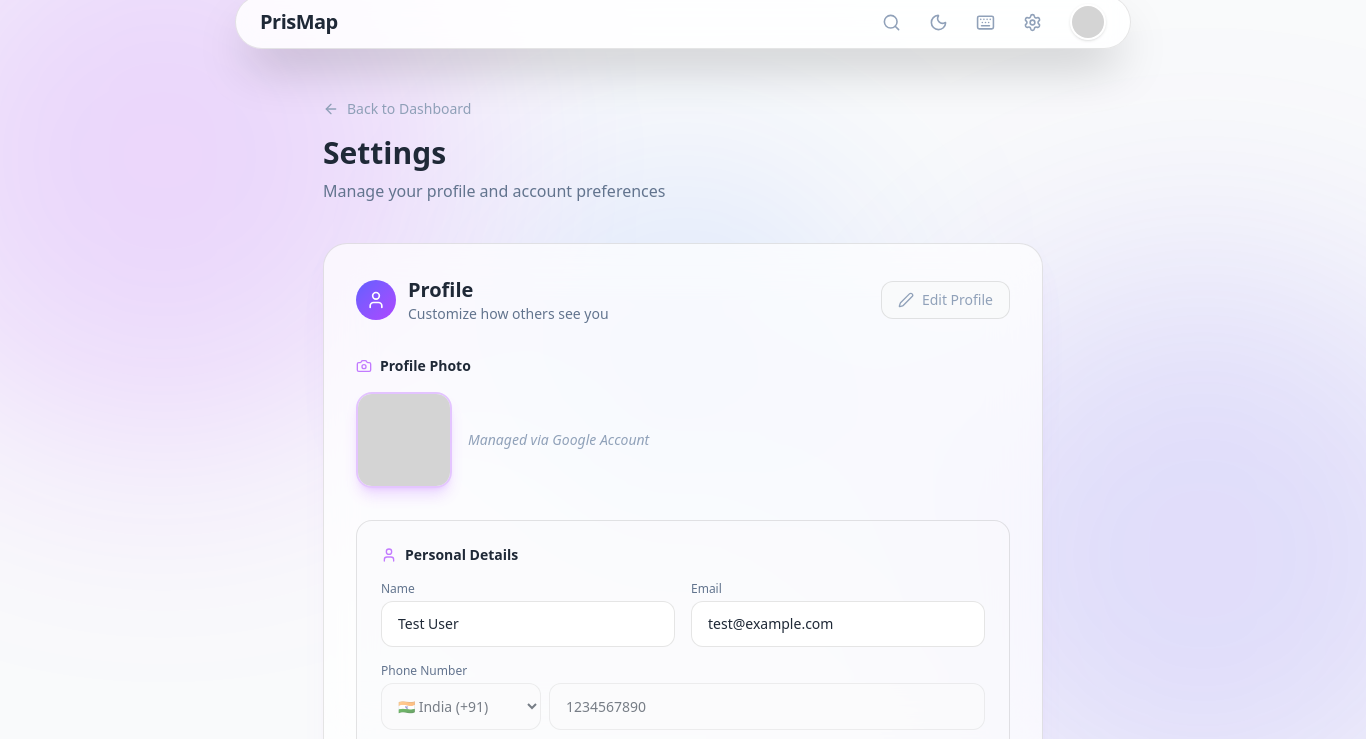
Test: Settings Page Integration Tests › enables job title input after entering edit mode
This screenshot has width=1366, height=739.
Click the button "Edit Profile" at (945, 300), box [881, 281, 1010, 319]
(page scrolled)
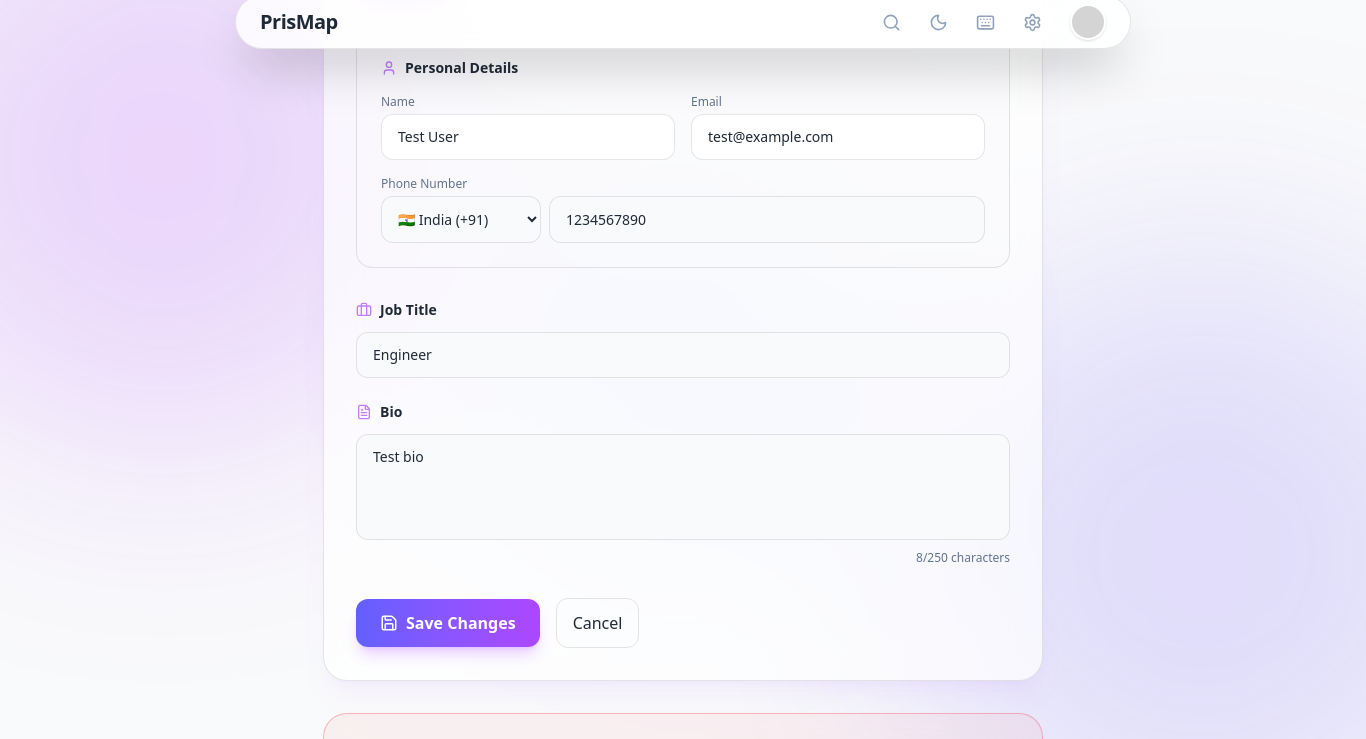
Expected: the field with placeholder "e.g. Software Engineer, Product Designer" below "Job Title" is enabled, [356, 332, 1010, 378]
